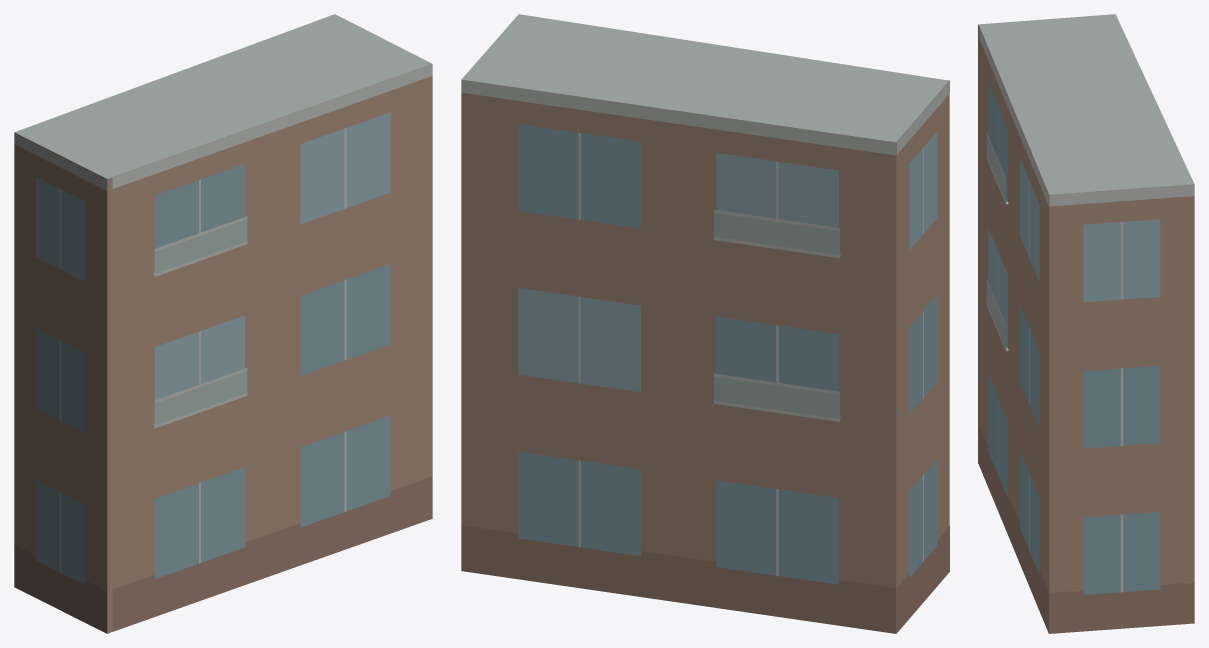
File: survey-upis-32617180.glb
The picture shows the model from 3 angles, left to right: view 1: azimuth 30°, elevation 25°; view 2: azimuth 150°, elevation 25°; view 3: azimuth 270°, elevation 25°; orthographic projection. The views are drawn at different scales.
Visible parts, largest first — view 1: survey-upis-32617180.tmp; view 2: survey-upis-32617180.tmp; view 3: survey-upis-32617180.tmp.
Boxes of the visible parts, x1=… form: survey-upis-32617180.tmp: x1=14, y1=14, x2=432, y2=633; survey-upis-32617180.tmp: x1=461, y1=14, x2=949, y2=633; survey-upis-32617180.tmp: x1=978, y1=14, x2=1194, y2=633.
Size of the model in its own units: 8.09 by 9.15 by 4.1.
